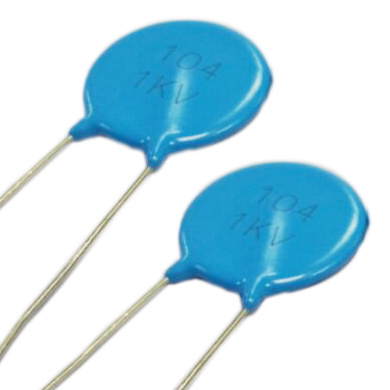capacitor: (139, 142, 377, 349), (69, 11, 279, 173)
